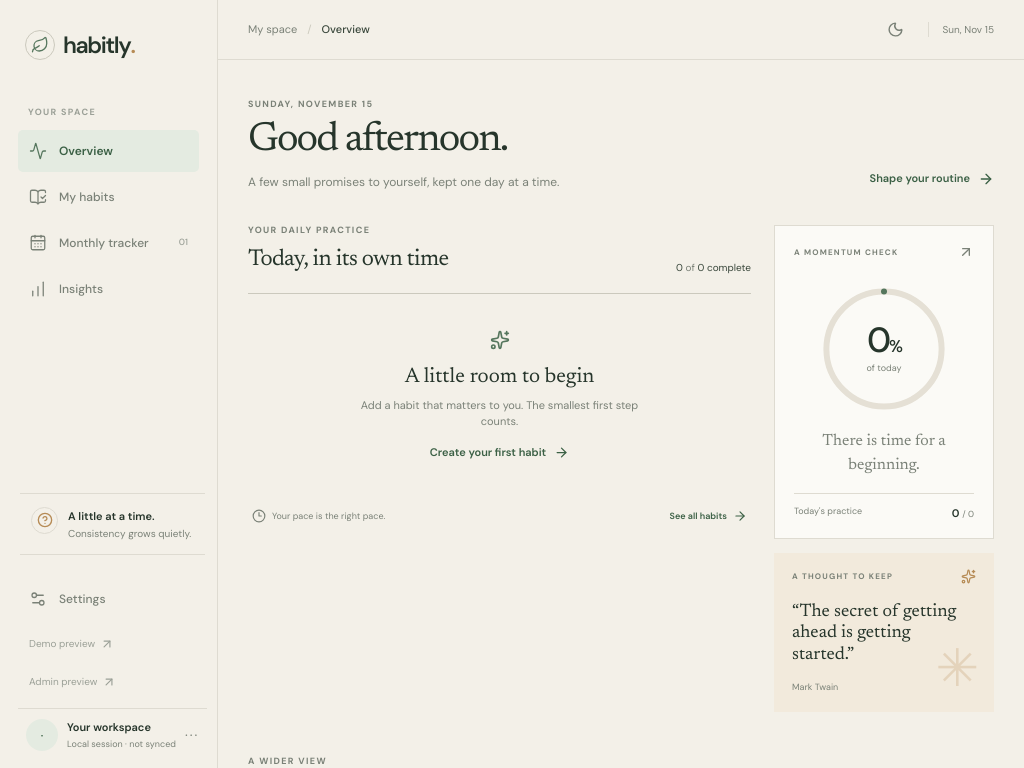
Habitly frontend › shows an honest empty analytics state without zeroed fake metrics
Click the link "Insights". click: point(66, 289)
box: [29,280,103,298]
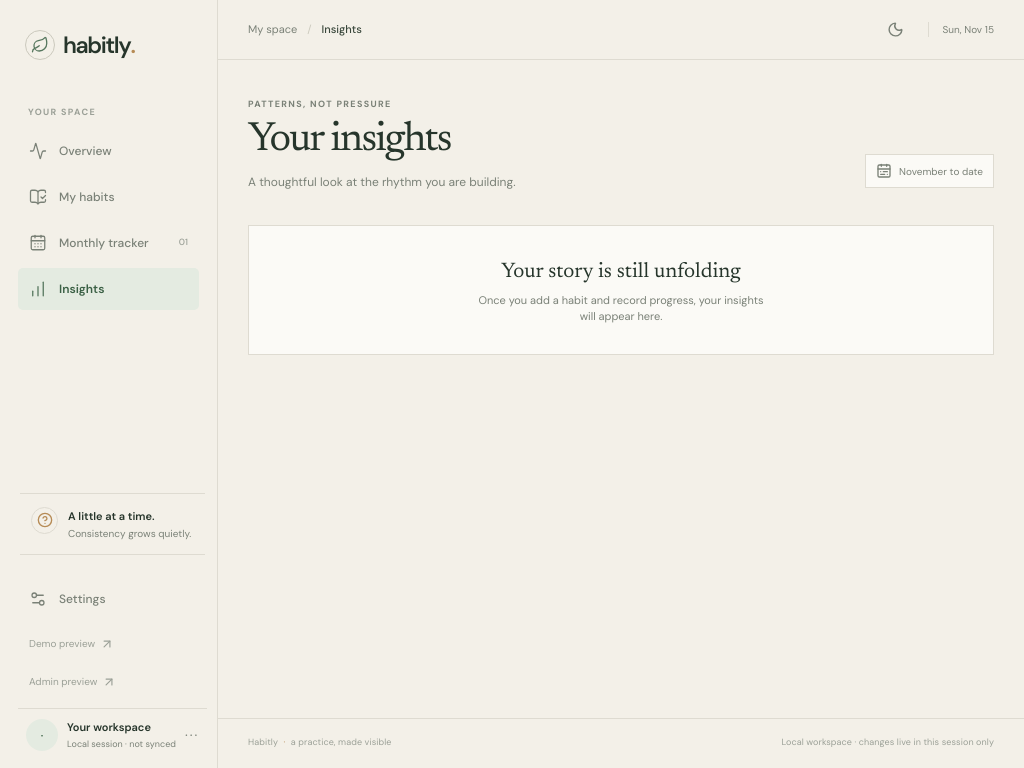
Expected: the text "Once you add a habit and record progress" is shown, [478,293,764,323]
